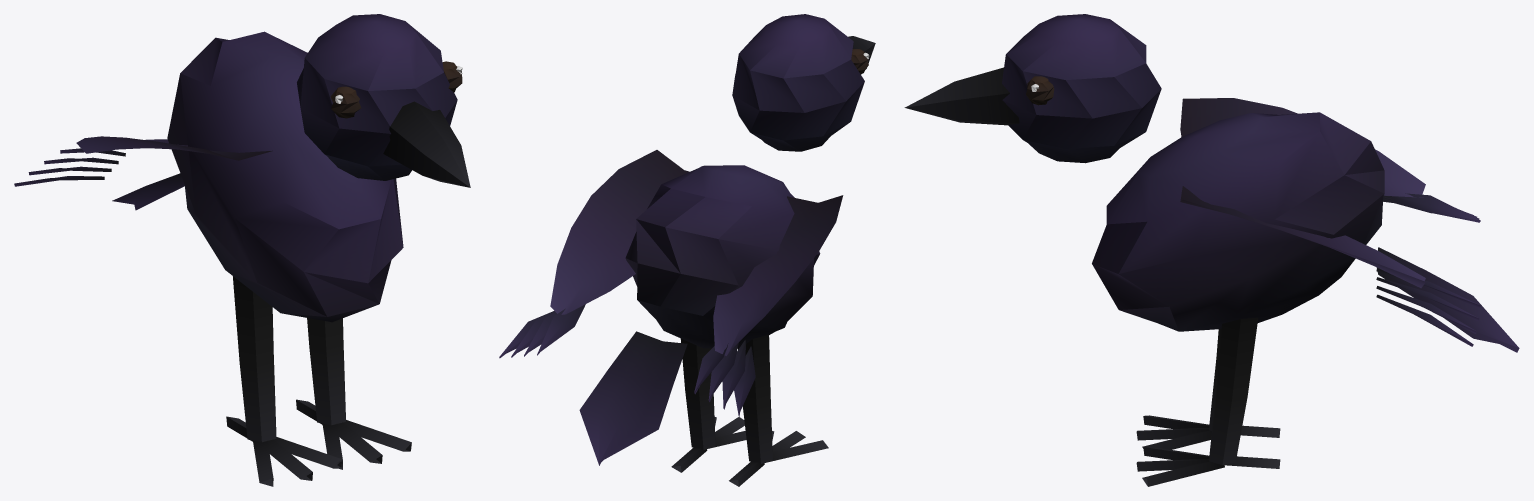
Rendered from gravewing_crow.glb.
3 renders of one model, left to right at view 1: azimuth 30°, elevation 25°; view 2: azimuth 150°, elevation 25°; view 3: azimuth 270°, elevation 25°, orthographic. The views are drawn at different scales.
Visible parts, largest first — view 1: body, head, leg_R, leg_L, wing_R, tail; view 2: body, head, wing_L, wing_R, tail, leg_R, leg_L; view 3: body, head, leg_L, wing_L, wing_R, tail, leg_R.
Part boxes in pixels (bbox=[...]): body: bbox=[167, 31, 403, 322]; head: bbox=[297, 14, 470, 187]; leg_R: bbox=[226, 276, 341, 486]; leg_L: bbox=[296, 318, 411, 469]; wing_R: bbox=[14, 136, 272, 186]; tail: bbox=[112, 173, 184, 210]; body: bbox=[625, 165, 820, 348]; head: bbox=[732, 14, 875, 151]; wing_L: bbox=[499, 150, 689, 358]; wing_R: bbox=[694, 195, 843, 416]; tail: bbox=[579, 331, 687, 465]; leg_R: bbox=[729, 334, 828, 486]; leg_L: bbox=[671, 338, 746, 472]; body: bbox=[1092, 112, 1384, 331]; head: bbox=[904, 14, 1161, 163]; leg_L: bbox=[1136, 317, 1280, 486]; wing_L: bbox=[1180, 186, 1480, 346]; wing_R: bbox=[1180, 98, 1480, 222]; tail: bbox=[1376, 247, 1519, 352]; leg_R: bbox=[1136, 329, 1280, 449].
Bounding box in the file's own units: 0.501 × 0.783 × 1.
